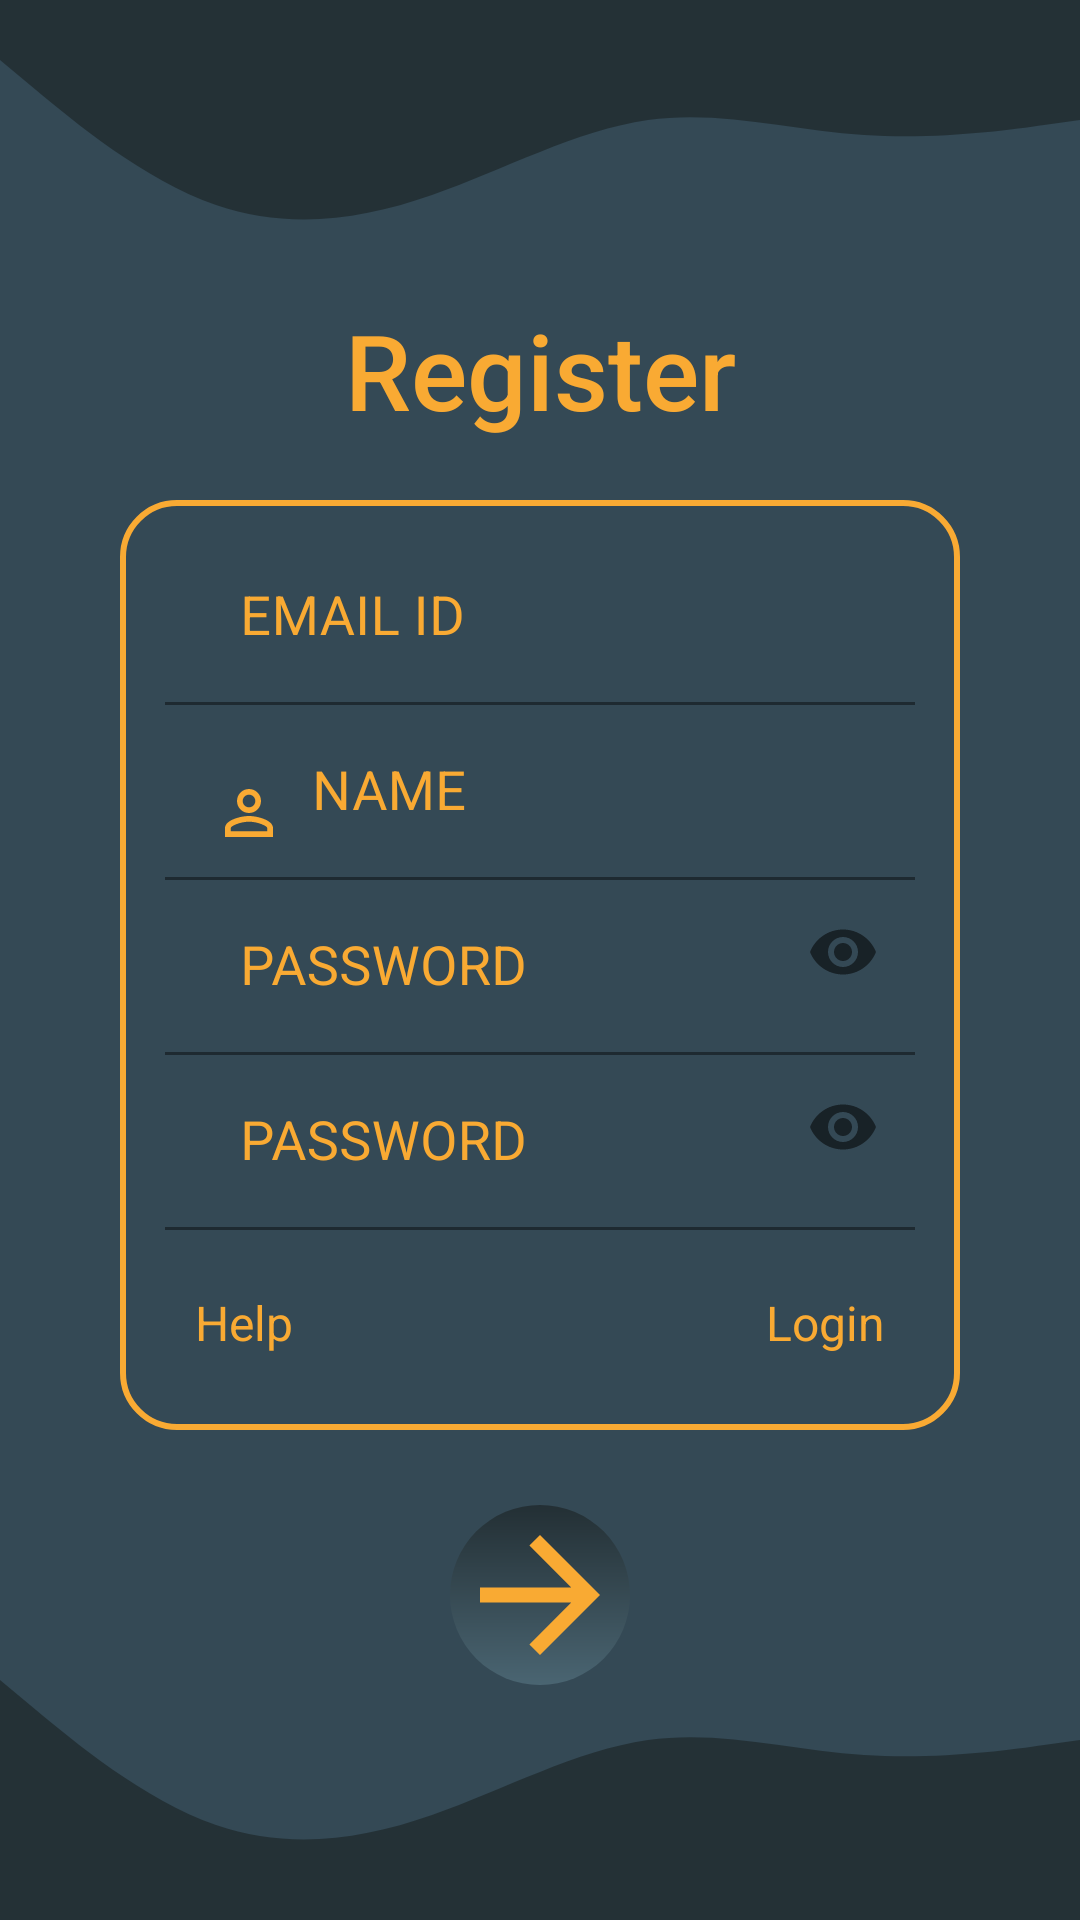

Screen size 1080 x 1920. Icon name, then its box in pixels as (x1, y1, x2, y2):
arrow forward: (479, 1505, 601, 1685)
